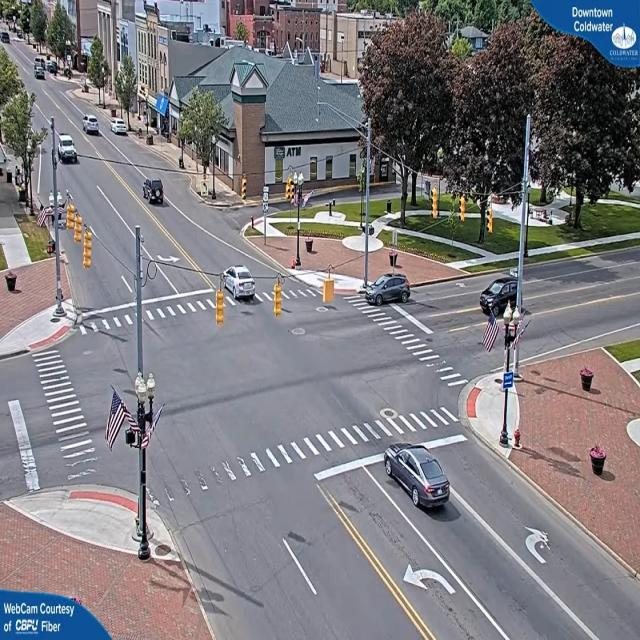car: (384, 444, 451, 512), (478, 276, 526, 316), (222, 265, 259, 302), (369, 273, 412, 304), (57, 132, 79, 164), (143, 179, 167, 207), (84, 116, 101, 136), (111, 119, 129, 136)
